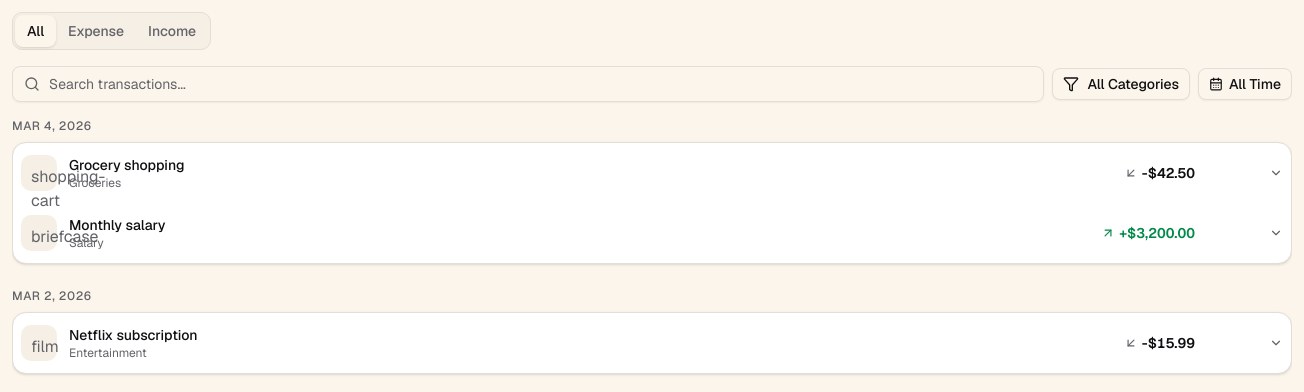
it: TransactionList › filters by expense type
Click the button "expense" at (96, 31), box [56, 15, 136, 47]
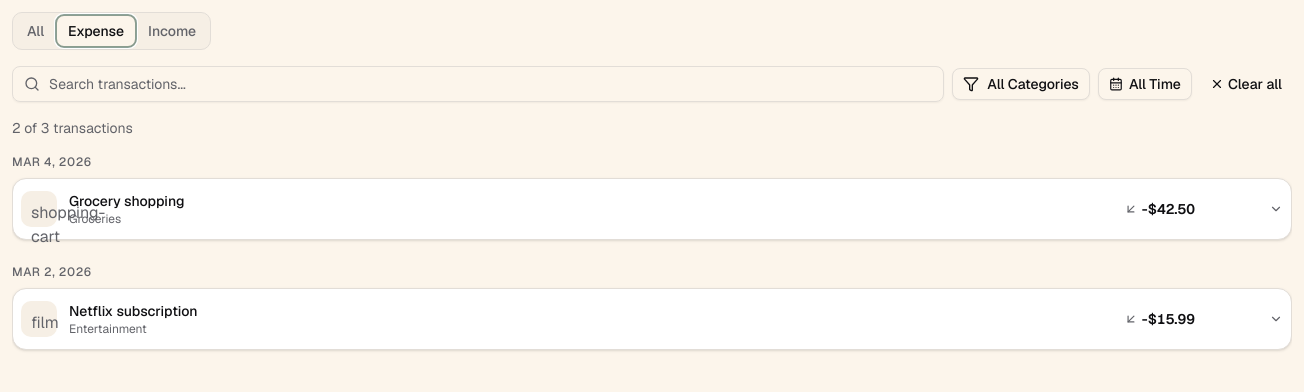
Expected: the text "Grocery shopping" is shown, [69, 192, 185, 210]
Result: the button "Monthly salary" is gone
